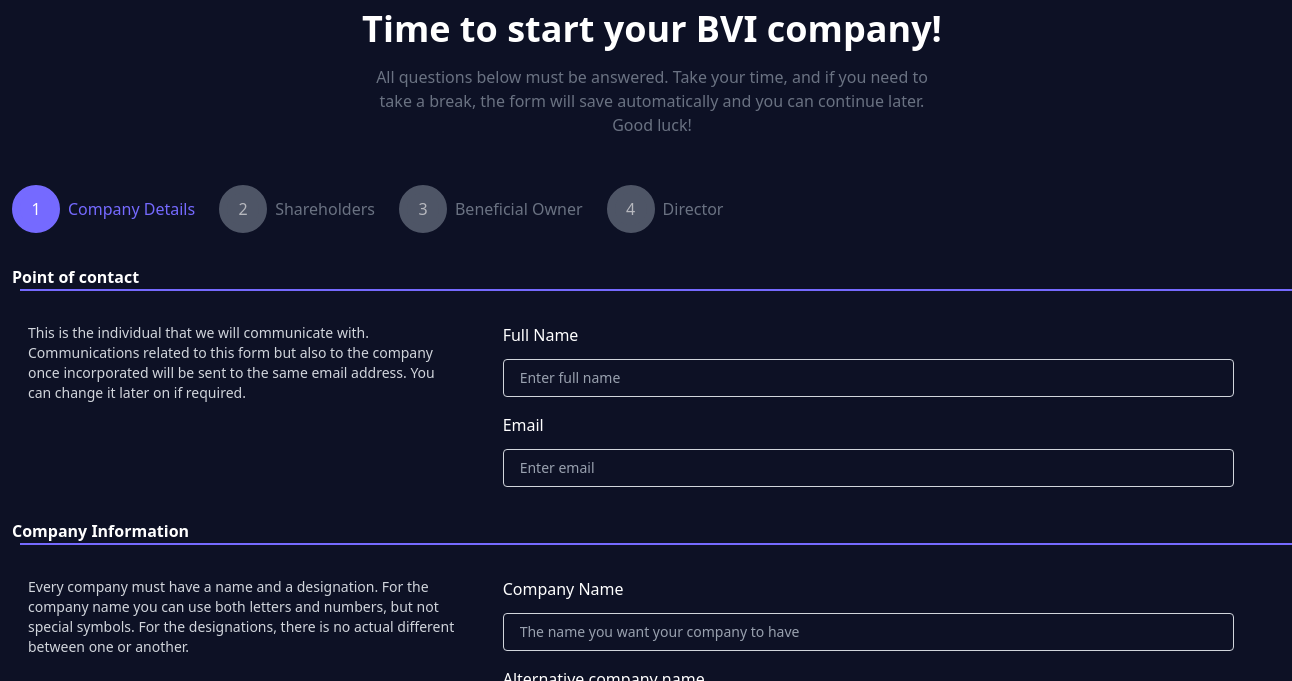
Test: Testing Home View › testing alt company name with same company name
Type "korporatio" into the field with test id "company-name" at {"x": 868, "y": 632}, box 503,613 -> 1234,651
(page scrolled)
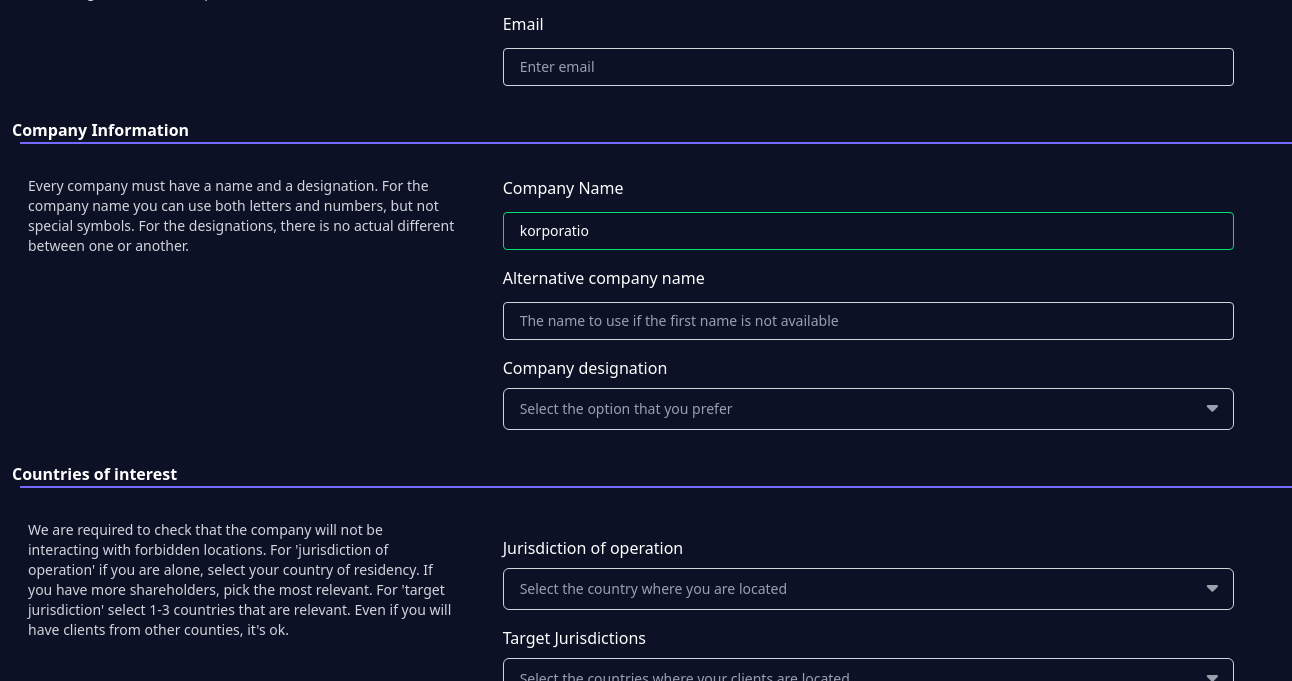
Type "korporatio" into the field with test id "alt-company-name" at {"x": 868, "y": 321}, box 503,302 -> 1234,340
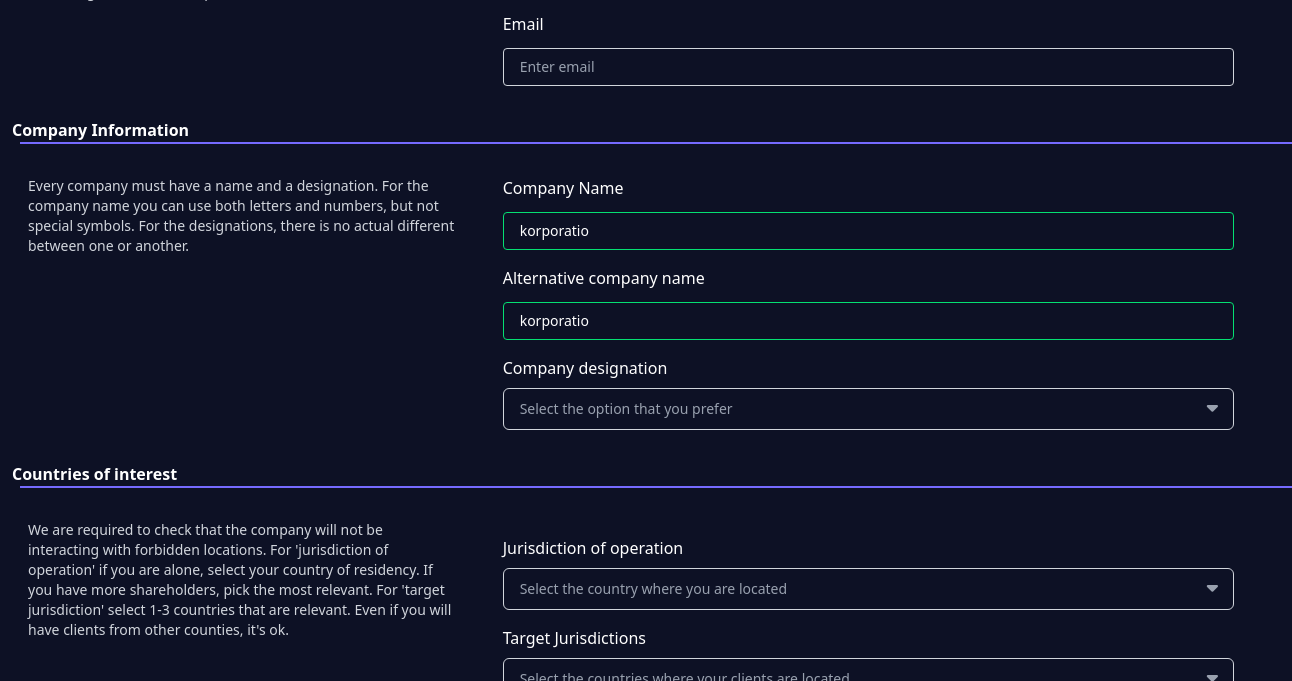
Leave the field with test id "alt-company-name", box 503,302 -> 1234,340
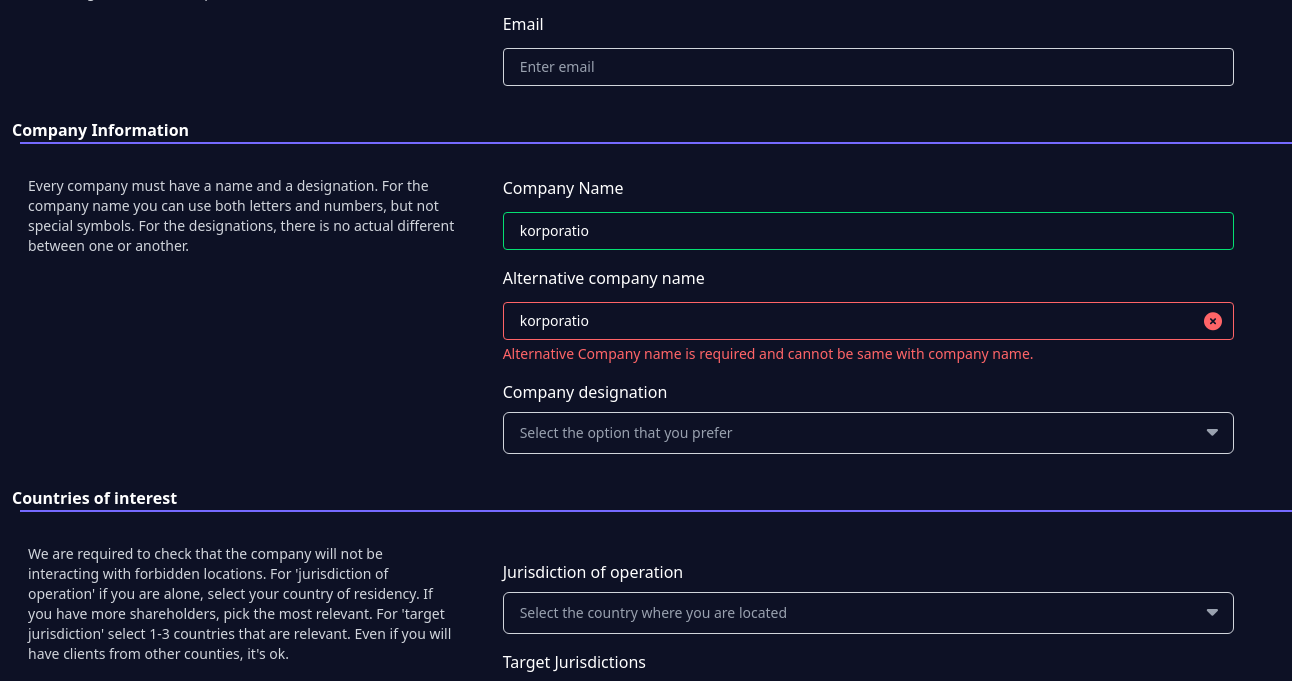
Check: the text "Alternative Company name is required and cannot be same with company name." is shown, box 503,344 -> 1034,363
